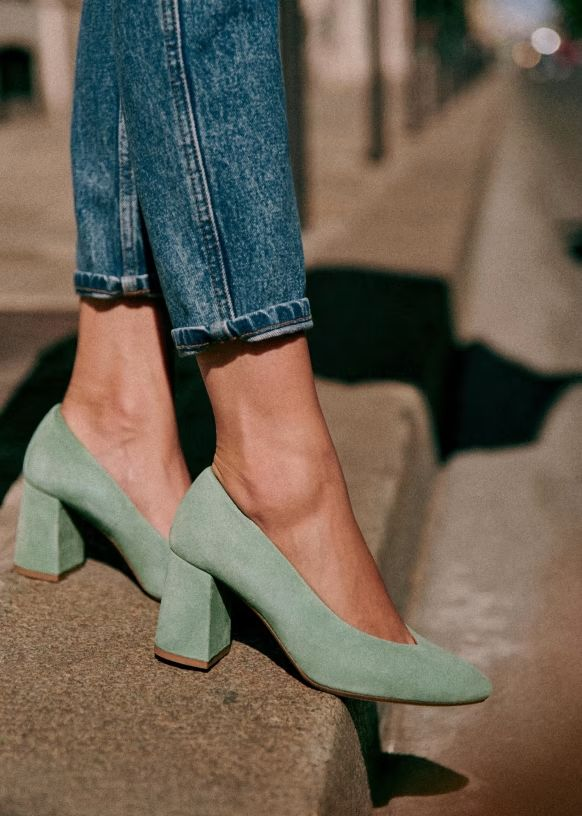gamuza: (18, 402, 491, 704)
